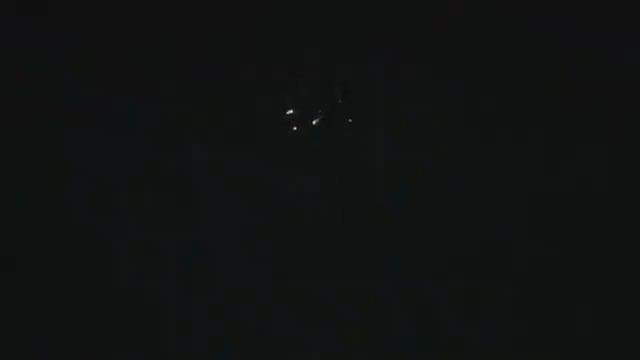Plane: (265, 79, 366, 143)
